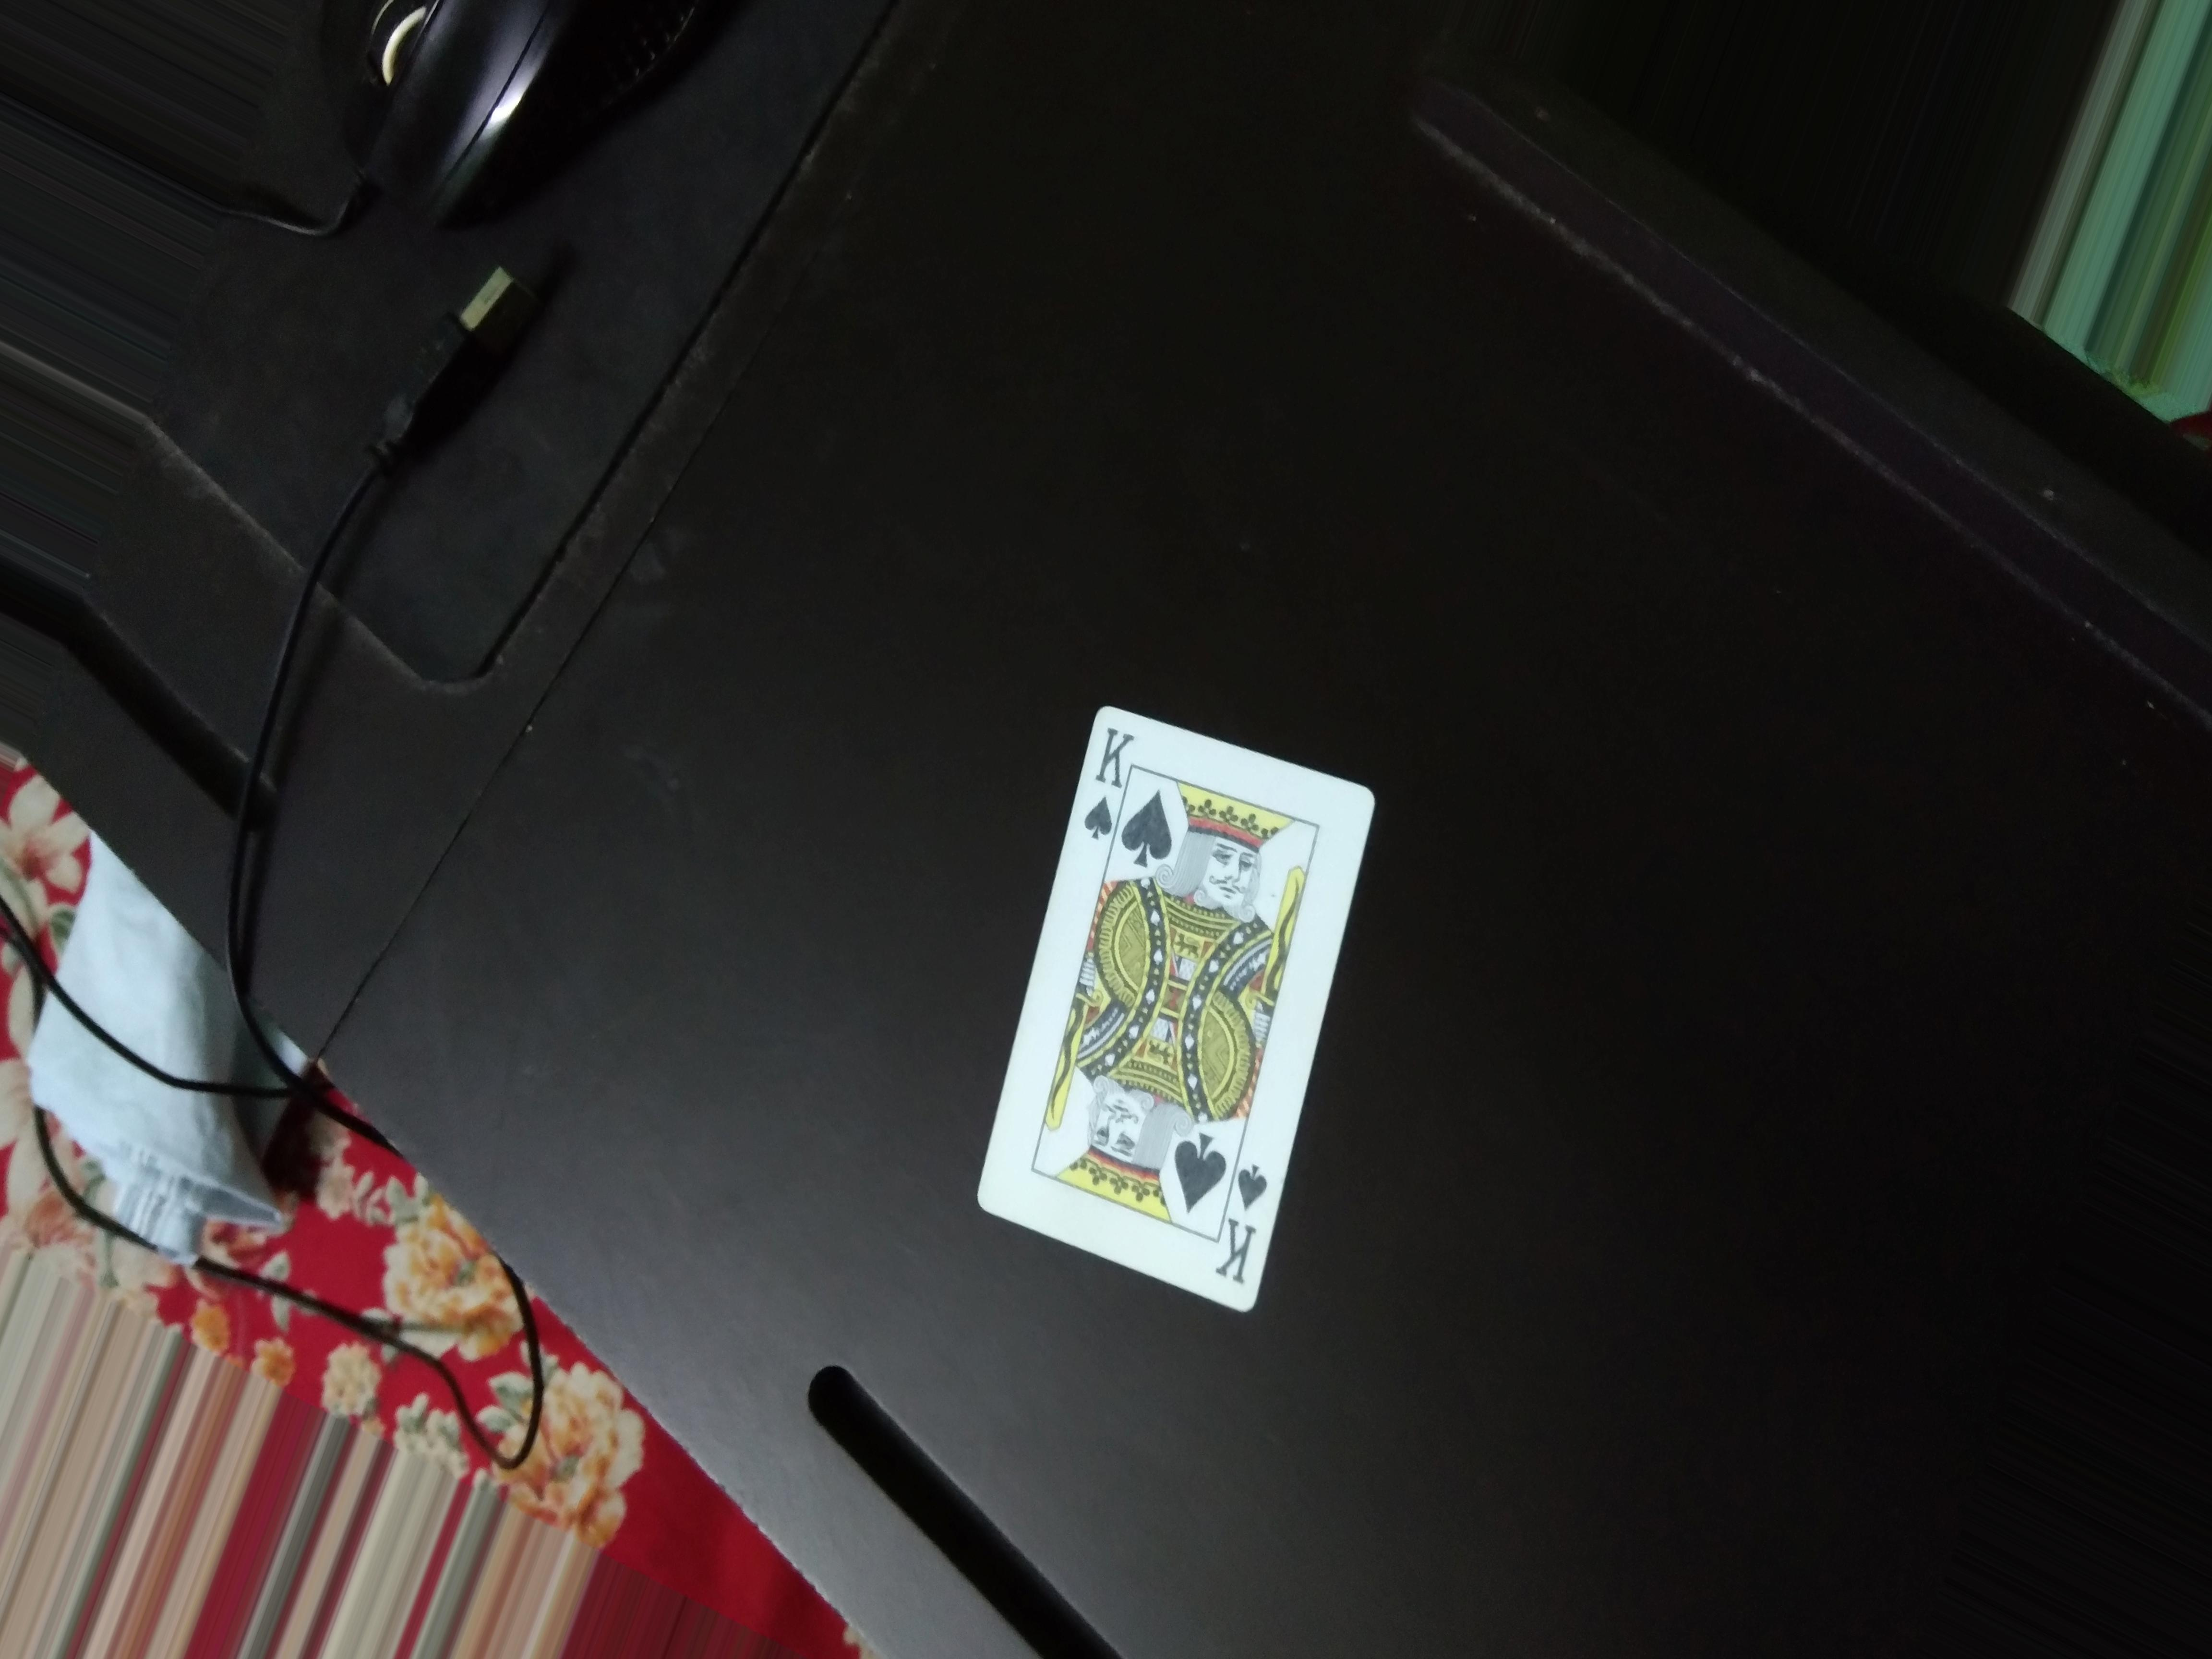KS: (1076, 709, 1136, 850)
